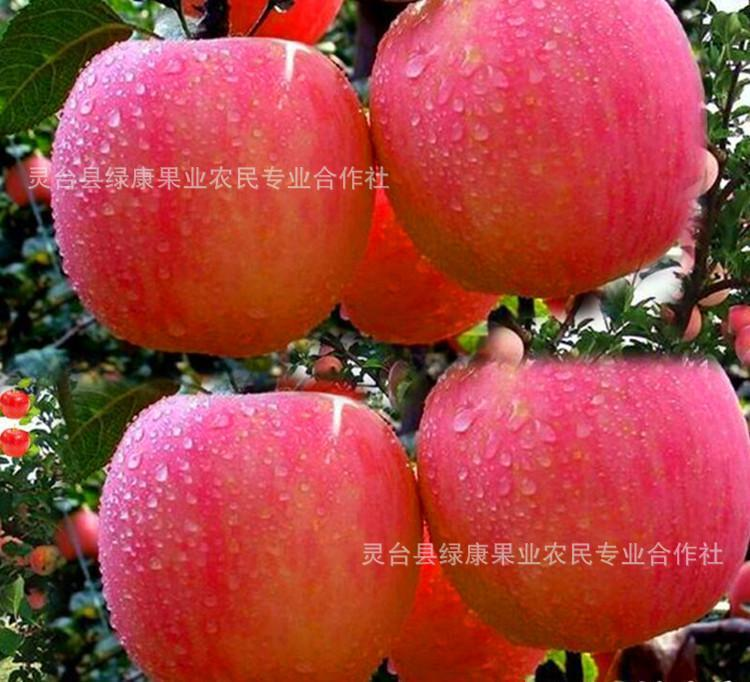apple: (105, 354, 750, 678), (359, 1, 709, 309), (46, 36, 376, 353), (408, 358, 746, 666), (96, 389, 424, 678)
